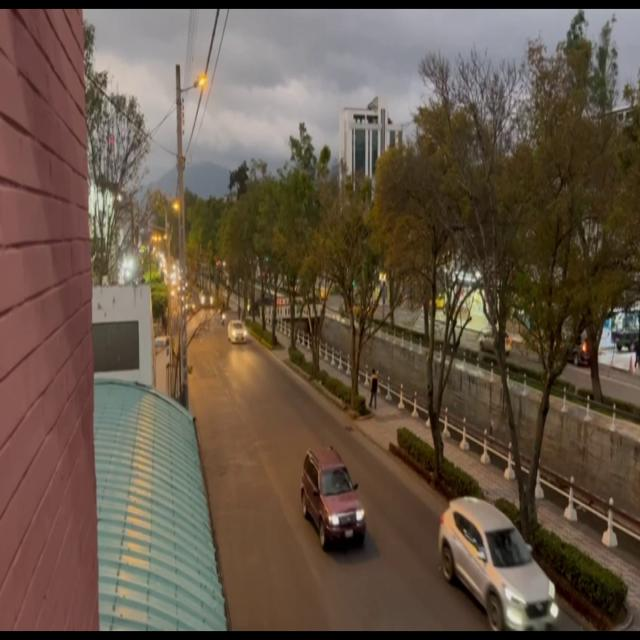SED: (230, 322, 246, 344)
SUV: (444, 505, 554, 635), (302, 448, 367, 552)
